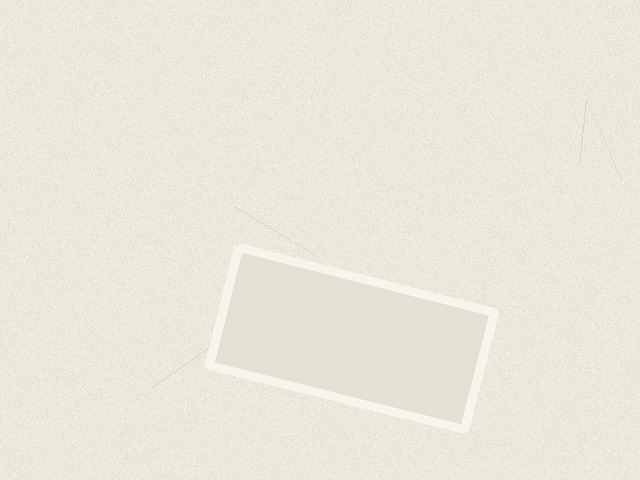parking_area: (209, 247, 494, 429)
